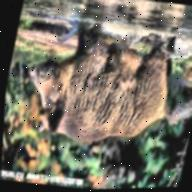boar: (14, 12, 192, 161)
